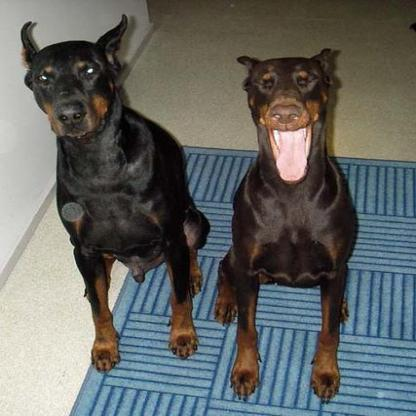Doberman: (15, 13, 210, 374), (214, 46, 360, 402)
